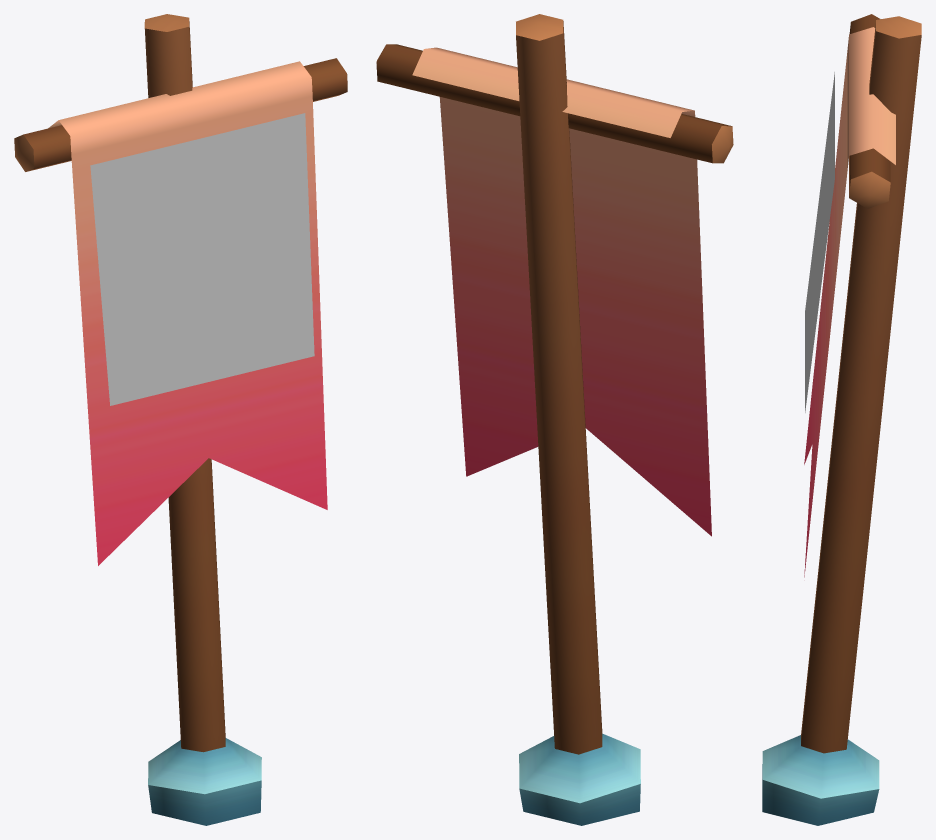
File: env_flag_Demon_v01.fbx
3 views of the same model, side by side, from view 1: azimuth 30°, elevation 25°; view 2: azimuth 150°, elevation 25°; view 3: azimuth 270°, elevation 25° (orthographic). The views are drawn at different scales.
Visible parts, largest first — view 1: Flag_Demons, Flag_Demons.001; view 2: Flag_Demons; view 3: Flag_Demons, Flag_Demons.001.
Part boxes in pixels (bbox=[...]): Flag_Demons: bbox=[14, 14, 347, 825]; Flag_Demons.001: bbox=[90, 113, 314, 405]; Flag_Demons: bbox=[376, 14, 733, 825]; Flag_Demons: bbox=[762, 14, 921, 825]; Flag_Demons.001: bbox=[805, 72, 834, 412].
Size of the model in its own units: 184 by 401 by 74.85.
